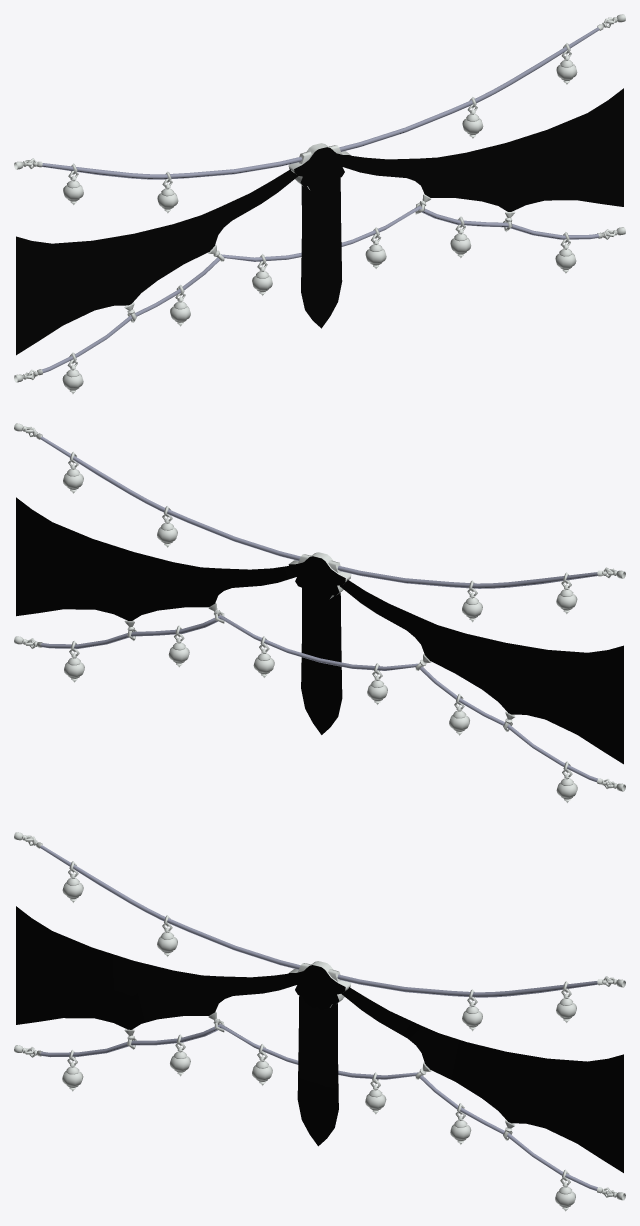
The picture shows the model from 3 angles, top to bottom: view 1: azimuth 30°, elevation 25°; view 2: azimuth 150°, elevation 25°; view 3: azimuth 330°, elevation 25°; orthographic projection.
Parts seen in each view (by area): view 1: G:\FFXIV-MapTools\exports\m5f1\bg\ex4\02_mid_m5\fld\m5f1\bgp (×4); view 2: G:\FFXIV-MapTools\exports\m5f1\bg\ex4\02_mid_m5\fld\m5f1\bgp (×4); view 3: G:\FFXIV-MapTools\exports\m5f1\bg\ex4\02_mid_m5\fld\m5f1\bgp (×4).
Boxes of the visible parts, left/top/right/bottom form: G:\FFXIV-MapTools\exports\m5f1\bg\ex4\02_mid_m5\fld\m5f1\bgp (×4): left=14, top=14, right=625, bottom=394; G:\FFXIV-MapTools\exports\m5f1\bg\ex4\02_mid_m5\fld\m5f1\bgp (×4): left=14, top=423, right=625, bottom=803; G:\FFXIV-MapTools\exports\m5f1\bg\ex4\02_mid_m5\fld\m5f1\bgp (×4): left=14, top=832, right=625, bottom=1211.
Size of the model in its own units: 23.26 by 8.99 by 0.7297.
